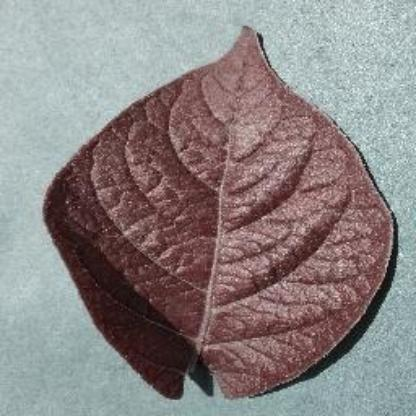Healthy-plant: (40, 23, 402, 403)
